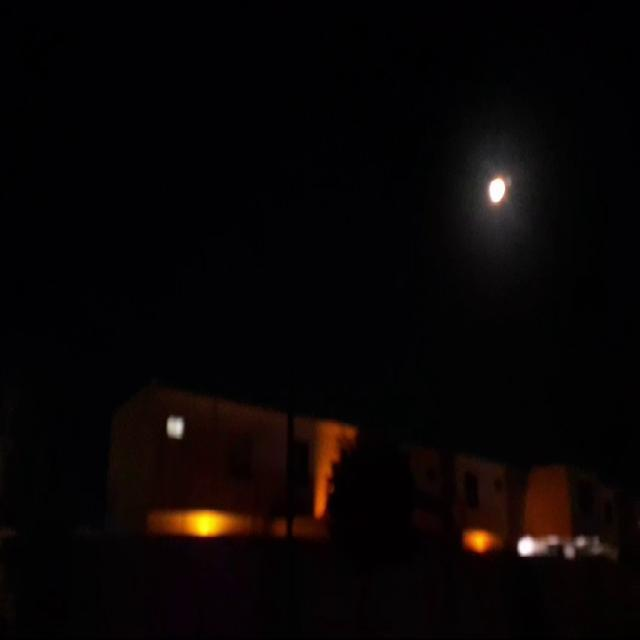moon: (485, 175, 508, 209)
